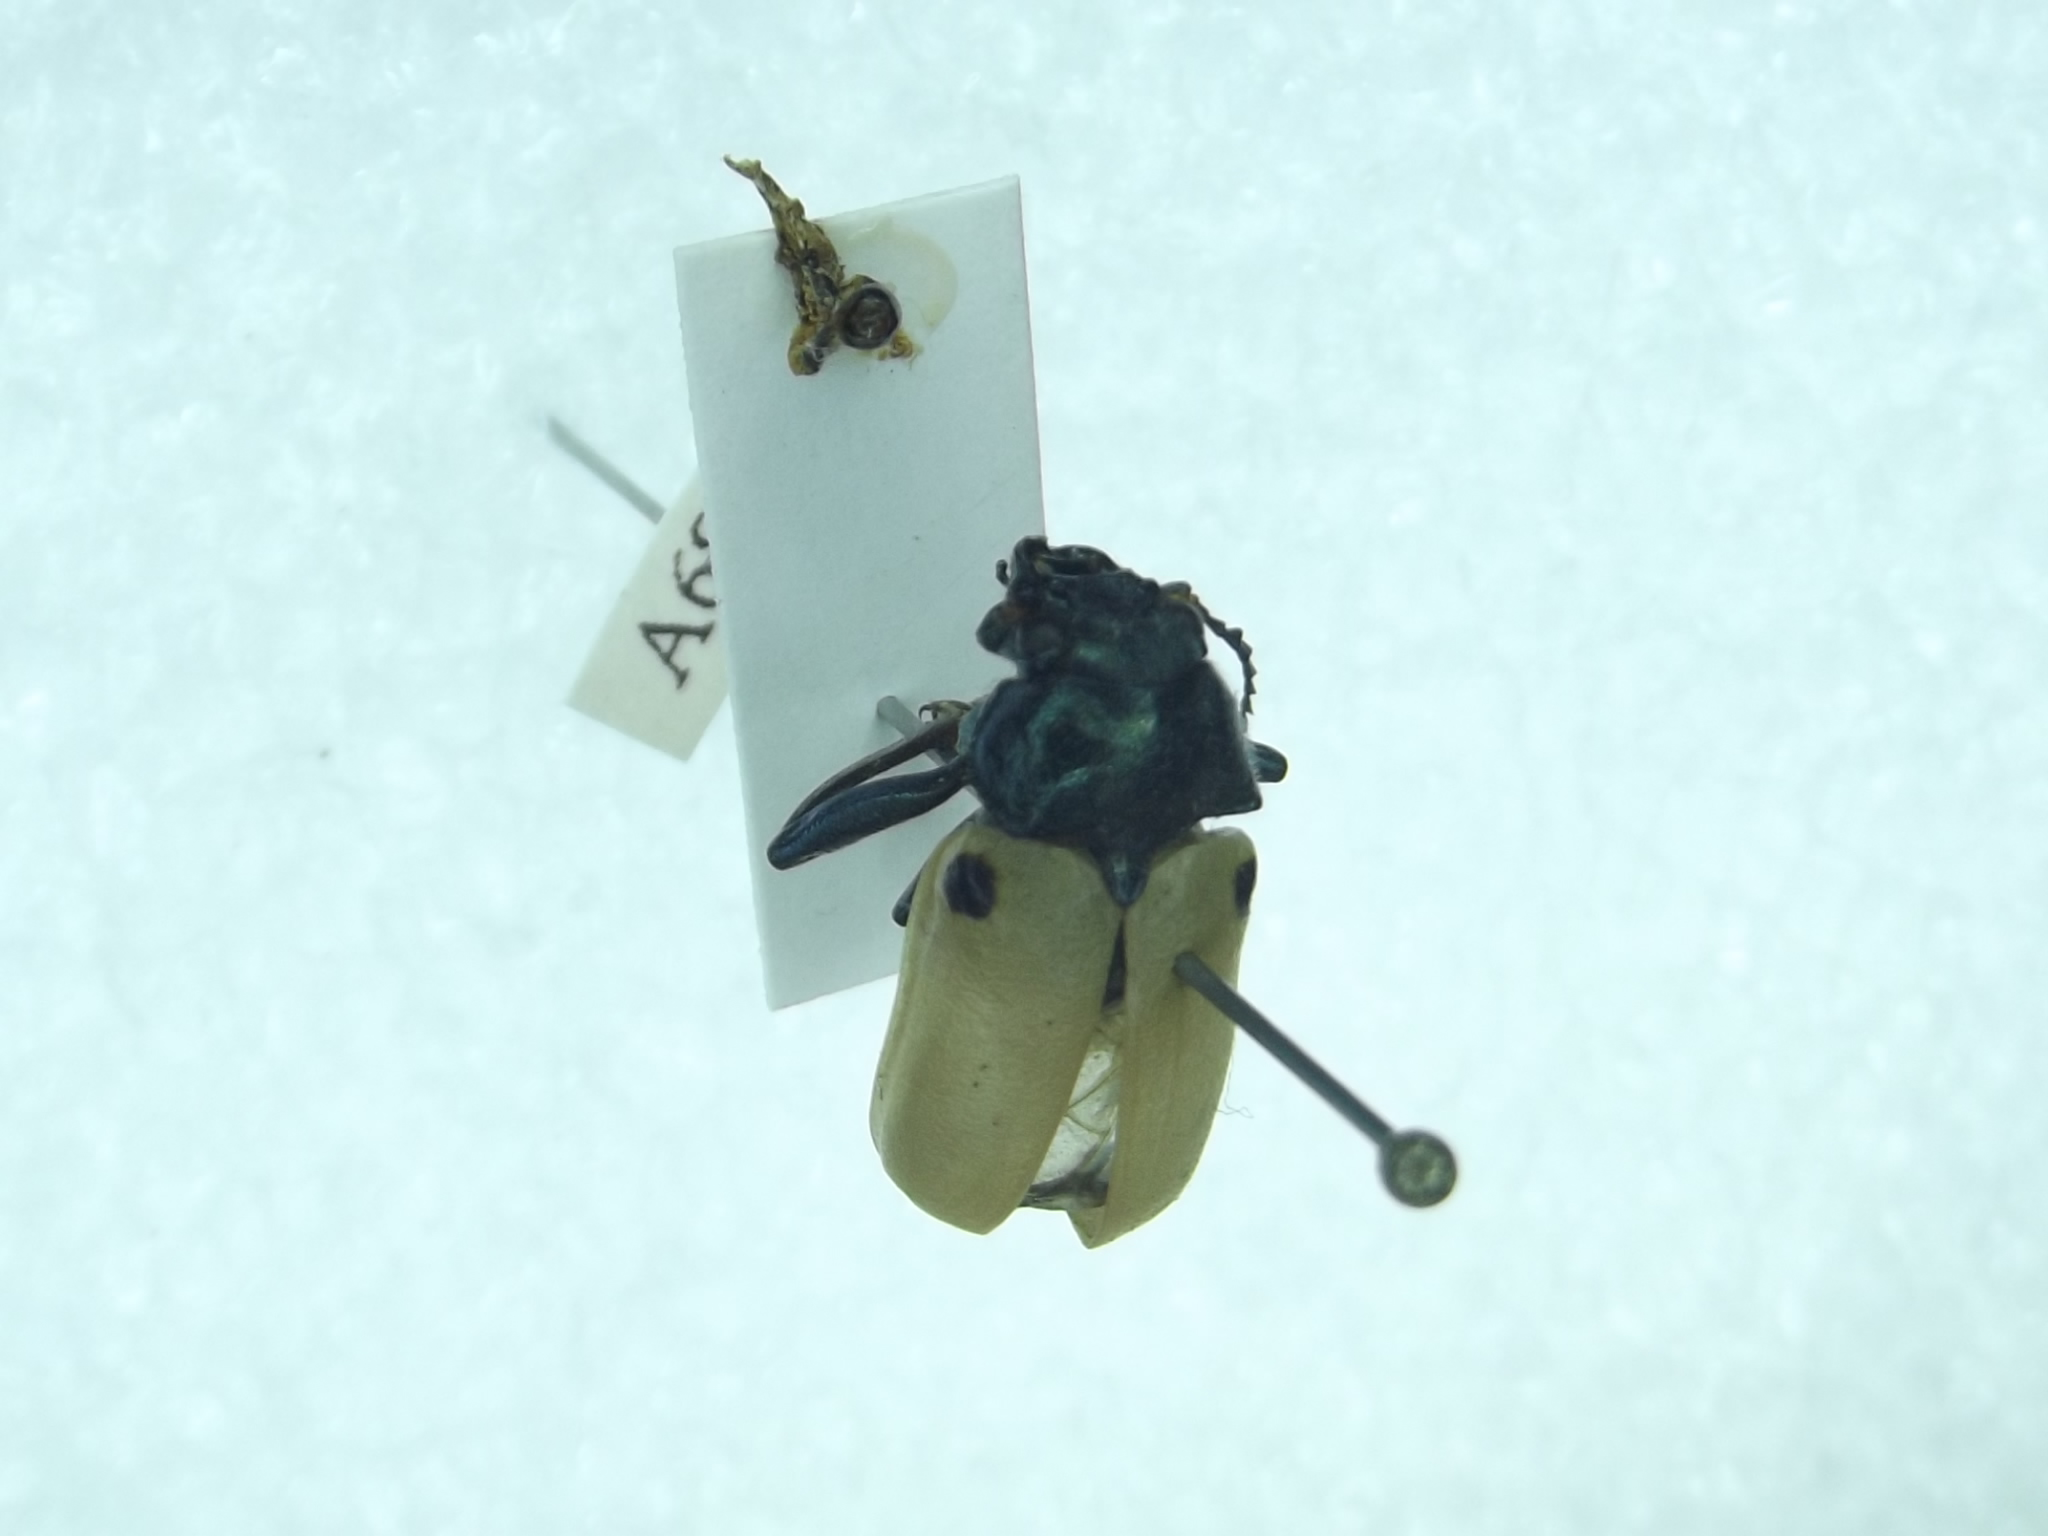Labidostomis_asiatica: (764, 518, 1276, 1270)
